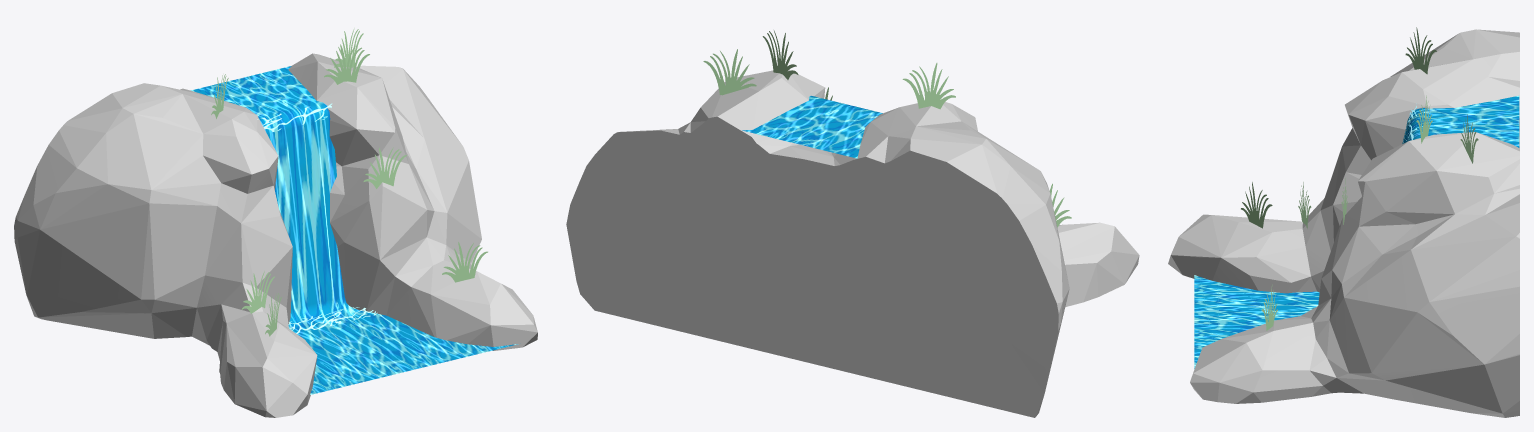
File: AnimatedWaterfall.gltf
3 views of the same model, side by side, from view 1: azimuth 30°, elevation 25°; view 2: azimuth 150°, elevation 25°; view 3: azimuth 270°, elevation 25° (orthographic). The views are drawn at different scales.
Visible parts, largest first — view 1: Icosphere.007, WaterSurface, Grass.005, Grass.003, Grass.006, Grass.001, Foam02; view 2: Icosphere.007, WaterSurface, Grass.002, Grass.004, Grass.003; view 3: Icosphere.007, WaterSurface, Grass, Grass.002, Grass.004, Grass.005, Grass.003.
Part boxes in pixels (<box>): Icosphere.007: <box>14,53,537,417</box>; WaterSurface: <box>191,66,518,394</box>; Grass.005: <box>442,242,487,282</box>; Grass.003: <box>324,44,369,84</box>; Grass.006: <box>363,147,406,188</box>; Grass.001: <box>241,271,274,313</box>; Foam02: <box>288,307,377,333</box>; Icosphere.007: <box>566,70,1139,417</box>; WaterSurface: <box>742,95,882,158</box>; Grass.002: <box>902,63,955,109</box>; Grass.004: <box>703,49,756,95</box>; Grass.003: <box>762,30,798,79</box>; Icosphere.007: <box>1168,29,1519,417</box>; WaterSurface: <box>1194,95,1519,368</box>; Grass: <box>1241,182,1272,228</box>; Grass.002: <box>1405,27,1436,74</box>; Grass.004: <box>1460,114,1478,163</box>; Grass.005: <box>1261,284,1277,330</box>; Grass.003: <box>1416,95,1432,143</box>.
Bounding box in the file's own units: 9.14 × 5.02 × 6.05.
Materials: 4 (3 with a texture image).
